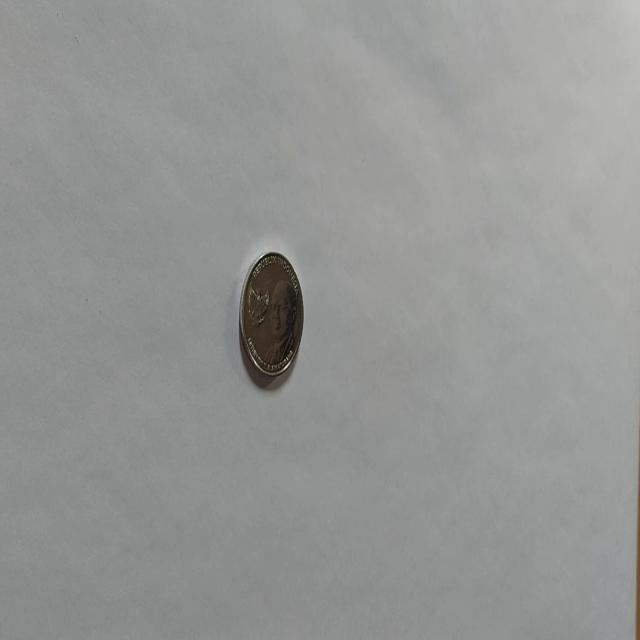lima ratus rupiah: (238, 250, 304, 385)
